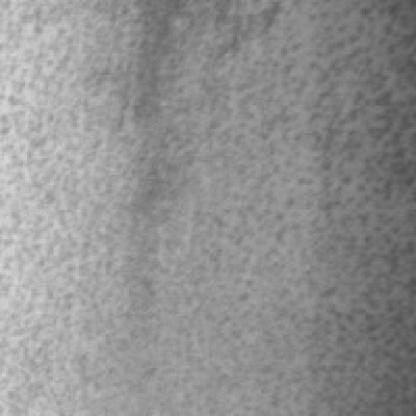pitted_surface: (156, 2, 410, 410), (6, 2, 227, 408)
